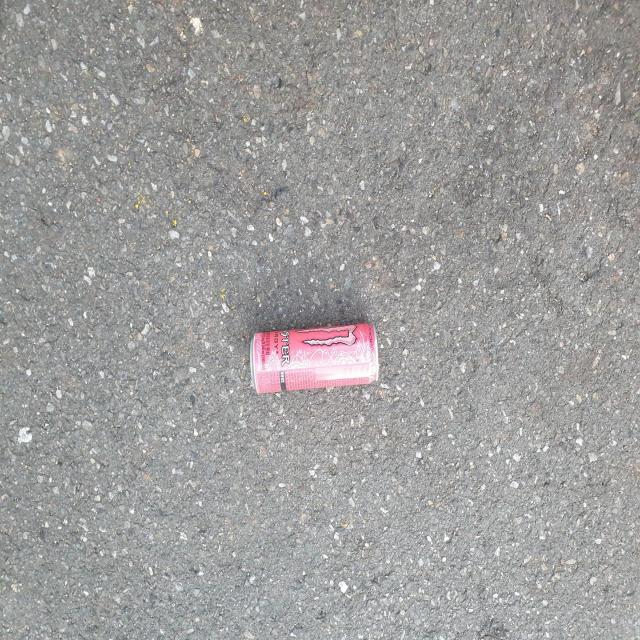can: (251, 323, 379, 394)
